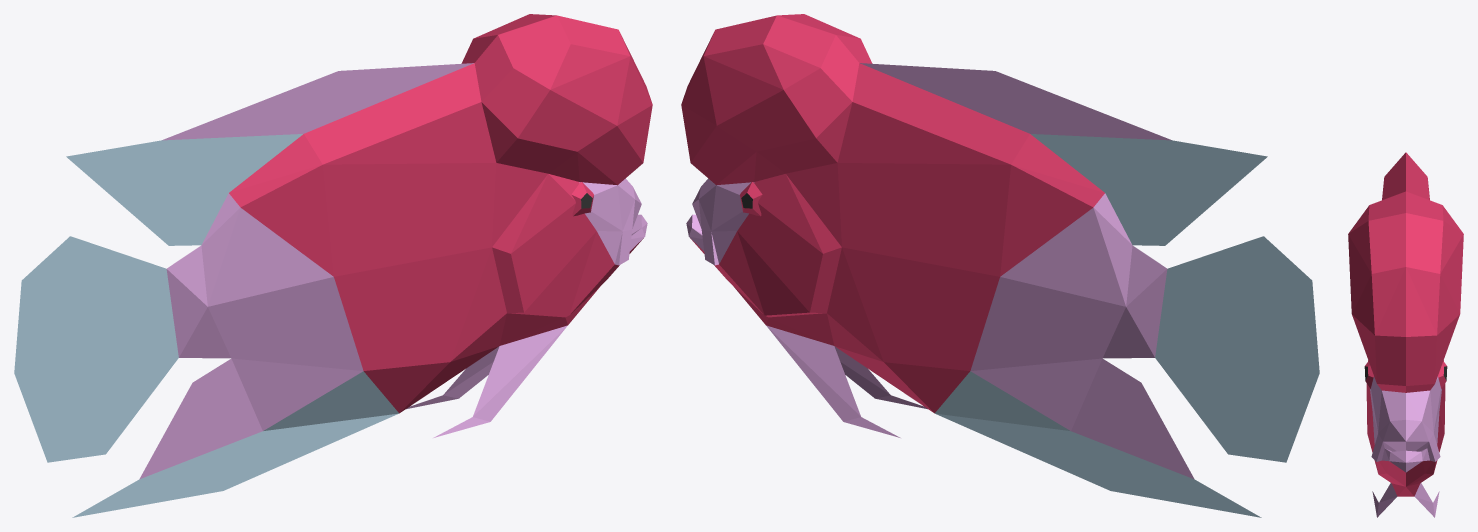
The model's file is Flowerhorn.fbx.
3 renders of one model, left to right at view 1: azimuth 30°, elevation 25°; view 2: azimuth 150°, elevation 25°; view 3: azimuth 270°, elevation 25°, orthographic. The views are drawn at different scales.
Visible parts, largest first — view 1: Flowerhorn; view 2: Flowerhorn; view 3: Flowerhorn.
Boxes of the visible parts, left/top/right/bottom form: Flowerhorn: left=14, top=14, right=652, bottom=517; Flowerhorn: left=681, top=14, right=1319, bottom=517; Flowerhorn: left=1348, top=152, right=1463, bottom=517.
Size of the model in its own units: 1.66 by 0.9844 by 0.2874.
